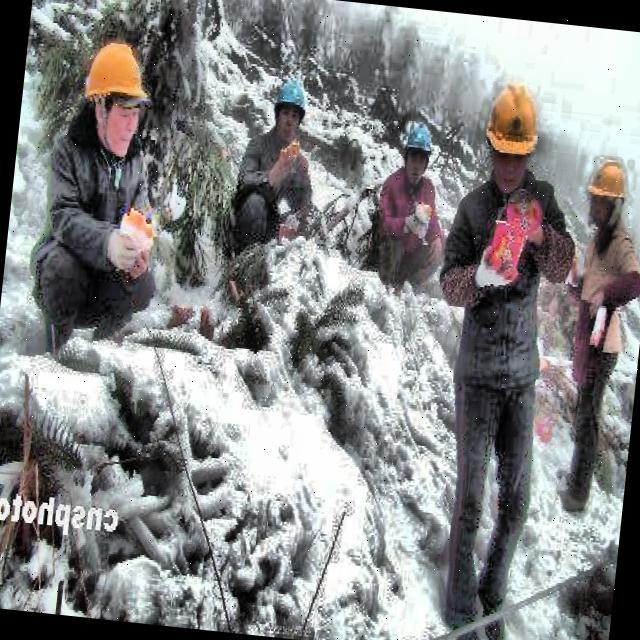helmet: (73, 28, 158, 163), (474, 66, 550, 200), (580, 144, 636, 242), (265, 70, 315, 148), (394, 110, 438, 184)
